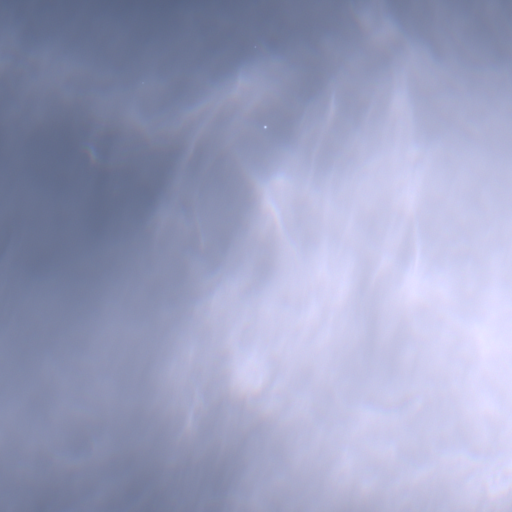Iceberg: (264, 126, 266, 128)
